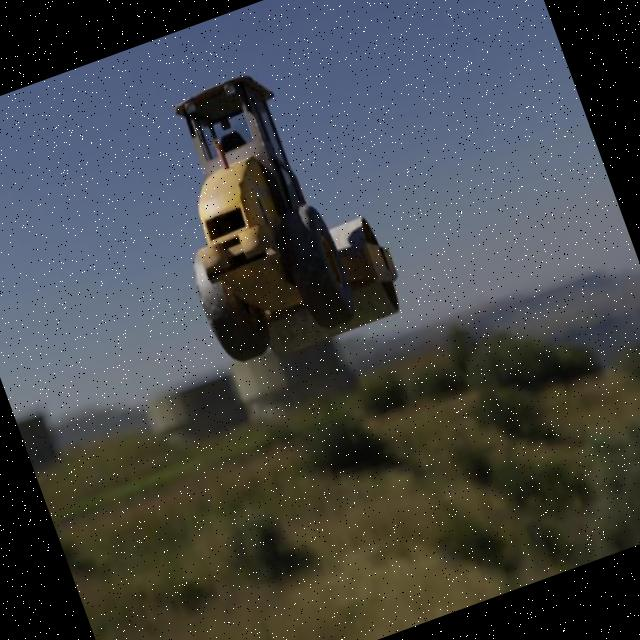Roller: (131, 48, 411, 376)
